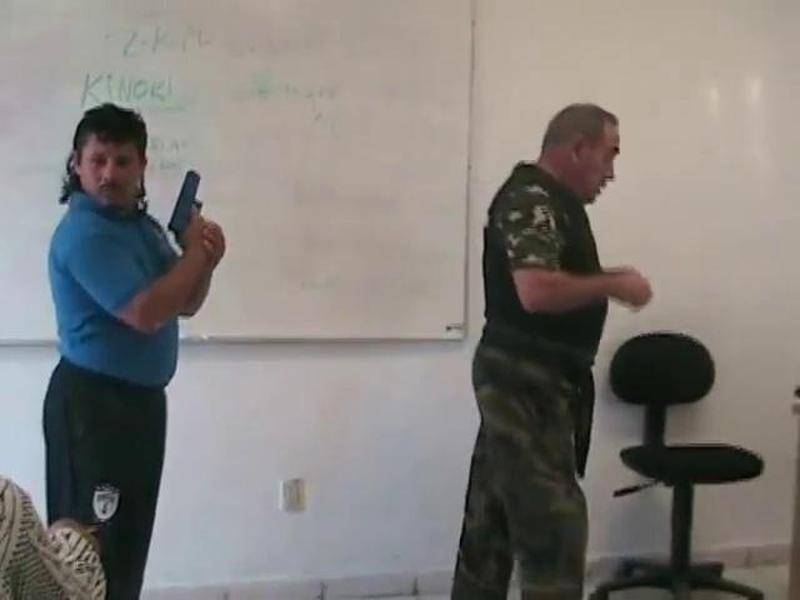Pistola: (147, 164, 226, 272)
